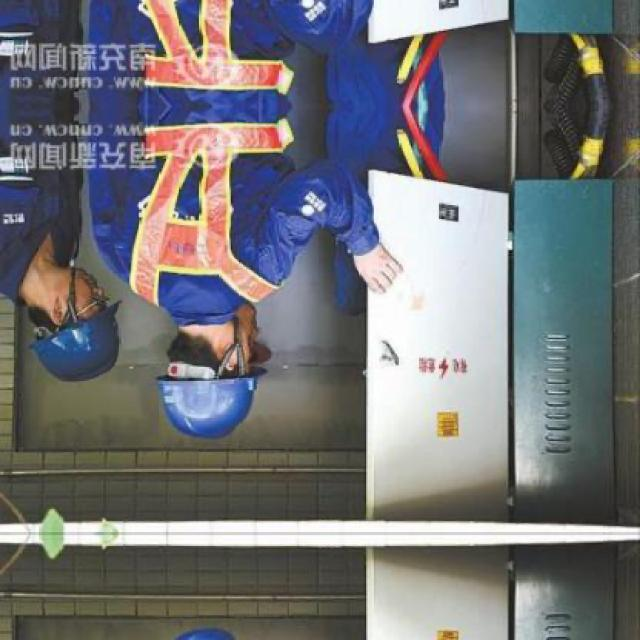con casco: (140, 342, 290, 444), (5, 290, 136, 397)
